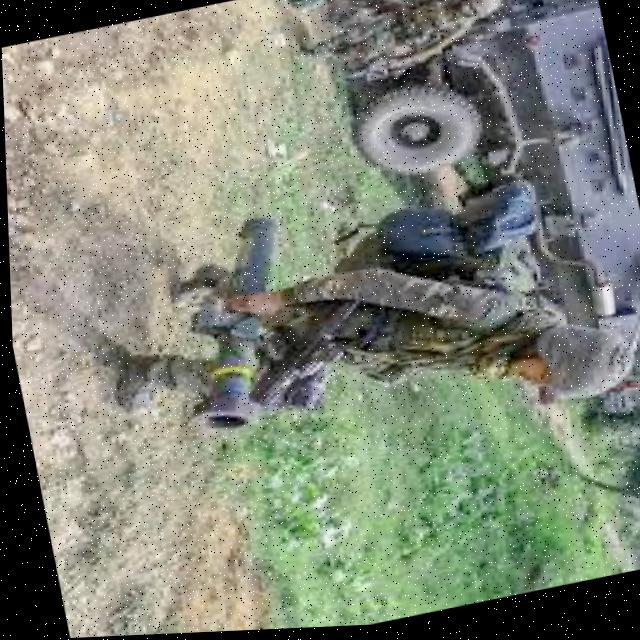rocket: (148, 201, 323, 447)
